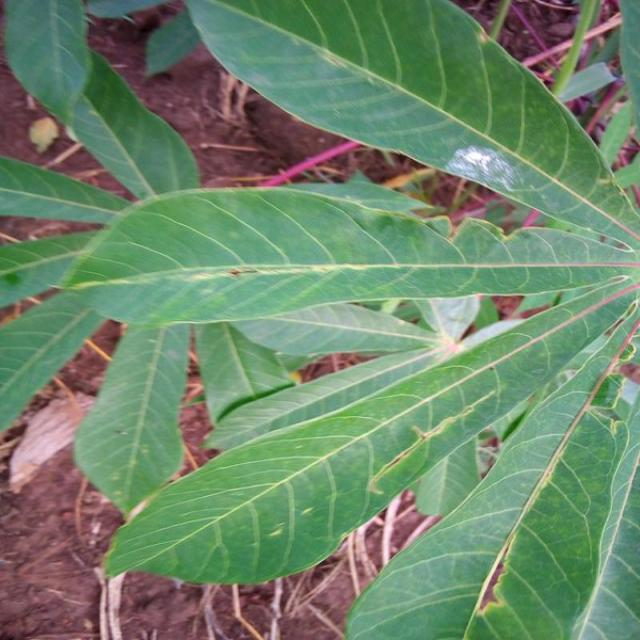cassava leaf: (1, 1, 638, 636), (182, 0, 638, 249)
